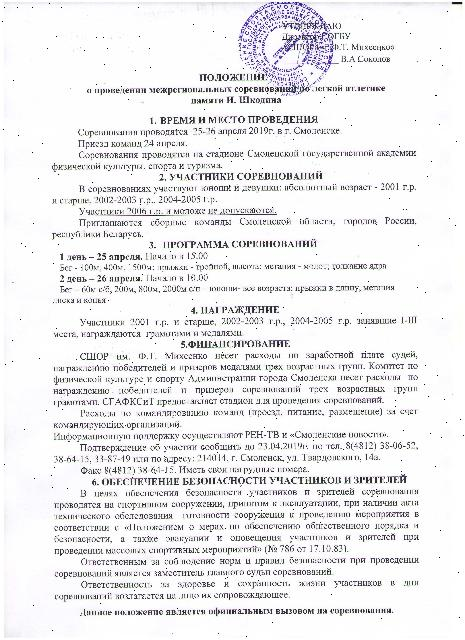stamp: (239, 4, 334, 96)
